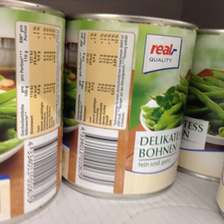beans: (65, 8, 191, 201)
